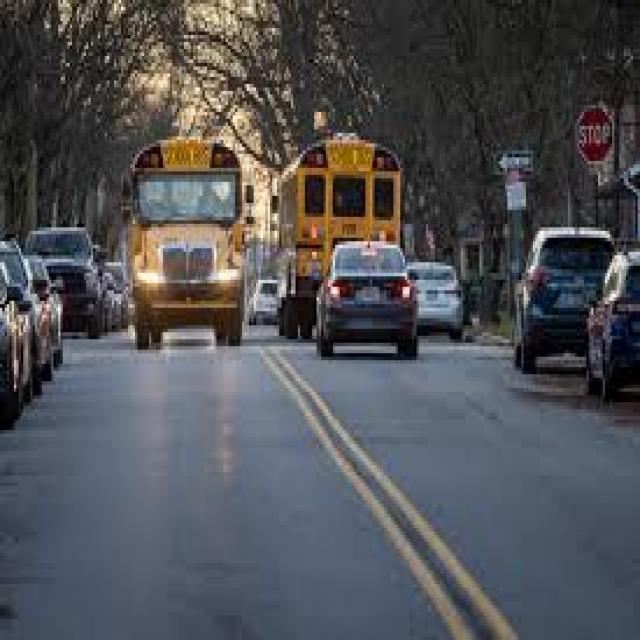car: (514, 227, 610, 374), (317, 245, 414, 360), (28, 227, 100, 339), (586, 252, 638, 402), (28, 255, 61, 395), (0, 285, 30, 430), (28, 255, 61, 381), (407, 262, 461, 339), (249, 280, 275, 325)
truck: (279, 136, 400, 336), (130, 140, 237, 350)
